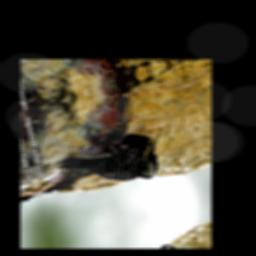Woodpecker: (53, 115, 163, 208)
